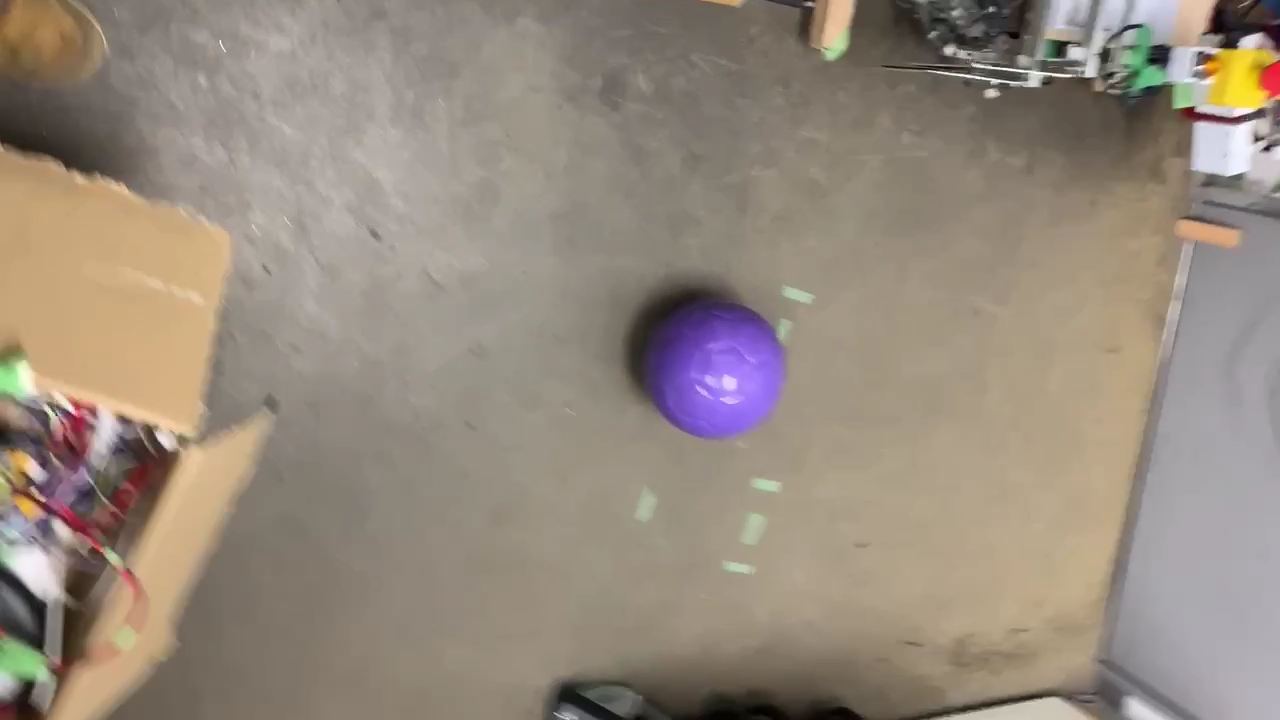purple: (649, 303, 784, 439)
